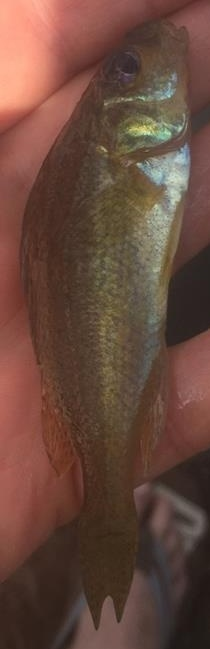Gymnocephalus cernuus: (20, 20, 190, 629)
